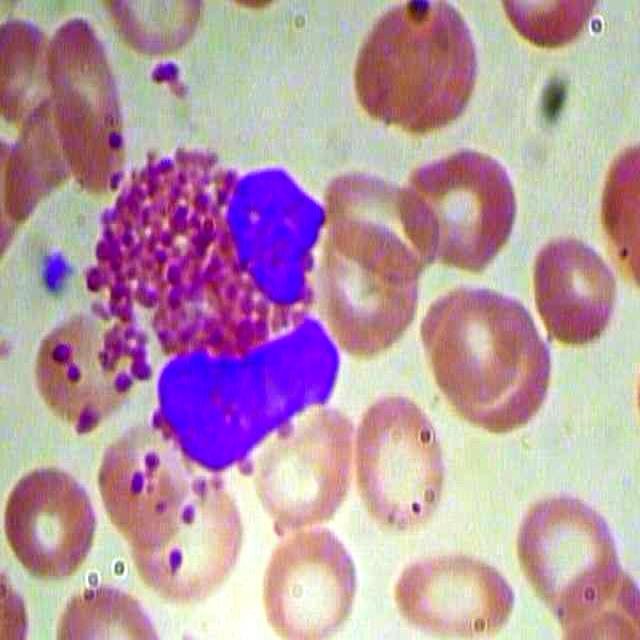Platelets: (28, 244, 81, 301)
RBC: (347, 1, 483, 139), (41, 16, 129, 199), (347, 387, 449, 542), (318, 156, 441, 284), (246, 396, 353, 535), (30, 314, 147, 438), (254, 521, 372, 640), (505, 482, 616, 606), (84, 428, 192, 551), (4, 462, 100, 582), (383, 551, 516, 637), (529, 232, 618, 347)
WBC: (74, 144, 336, 479)
